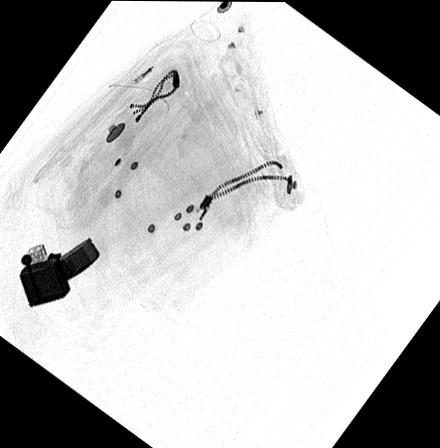Lighter: (17, 235, 100, 306)
